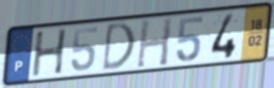4: (209, 11, 239, 61)
5: (175, 14, 205, 64), (70, 25, 100, 73)
D: (100, 20, 137, 74)
H: (134, 16, 174, 70), (31, 27, 69, 79)
